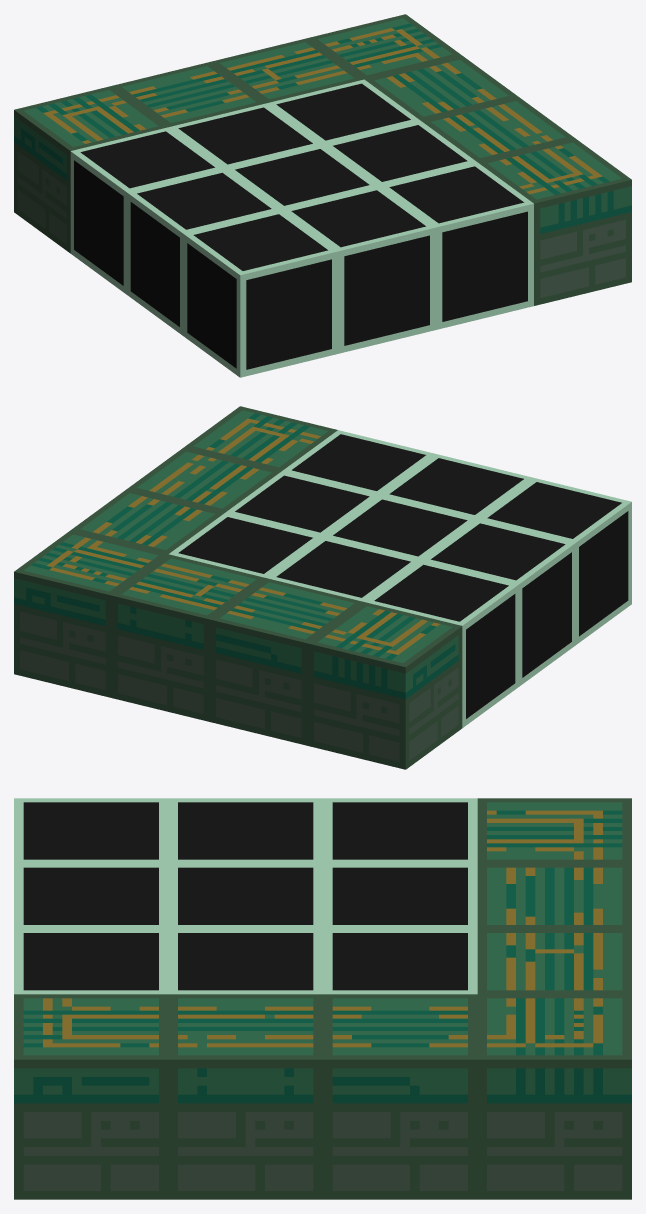
The model's file is m_tiles_16_4x4.fbx.
The picture shows the model from 3 angles, top to bottom: view 1: azimuth 30°, elevation 25°; view 2: azimuth 150°, elevation 25°; view 3: azimuth 270°, elevation 25°; orthographic projection. The views are drawn at different scales.
Visible parts, largest first — view 1: m_tiles_16_4x4; view 2: m_tiles_16_4x4; view 3: m_tiles_16_4x4.
Boxes of the visible parts, x1=… form: m_tiles_16_4x4: x1=14, y1=14, x2=631, y2=377; m_tiles_16_4x4: x1=14, y1=406, x2=631, y2=769; m_tiles_16_4x4: x1=14, y1=798, x2=631, y2=1199.
Size of the model in its own units: 6.4 by 1.6 by 6.4.
1 material, 1 textured.
